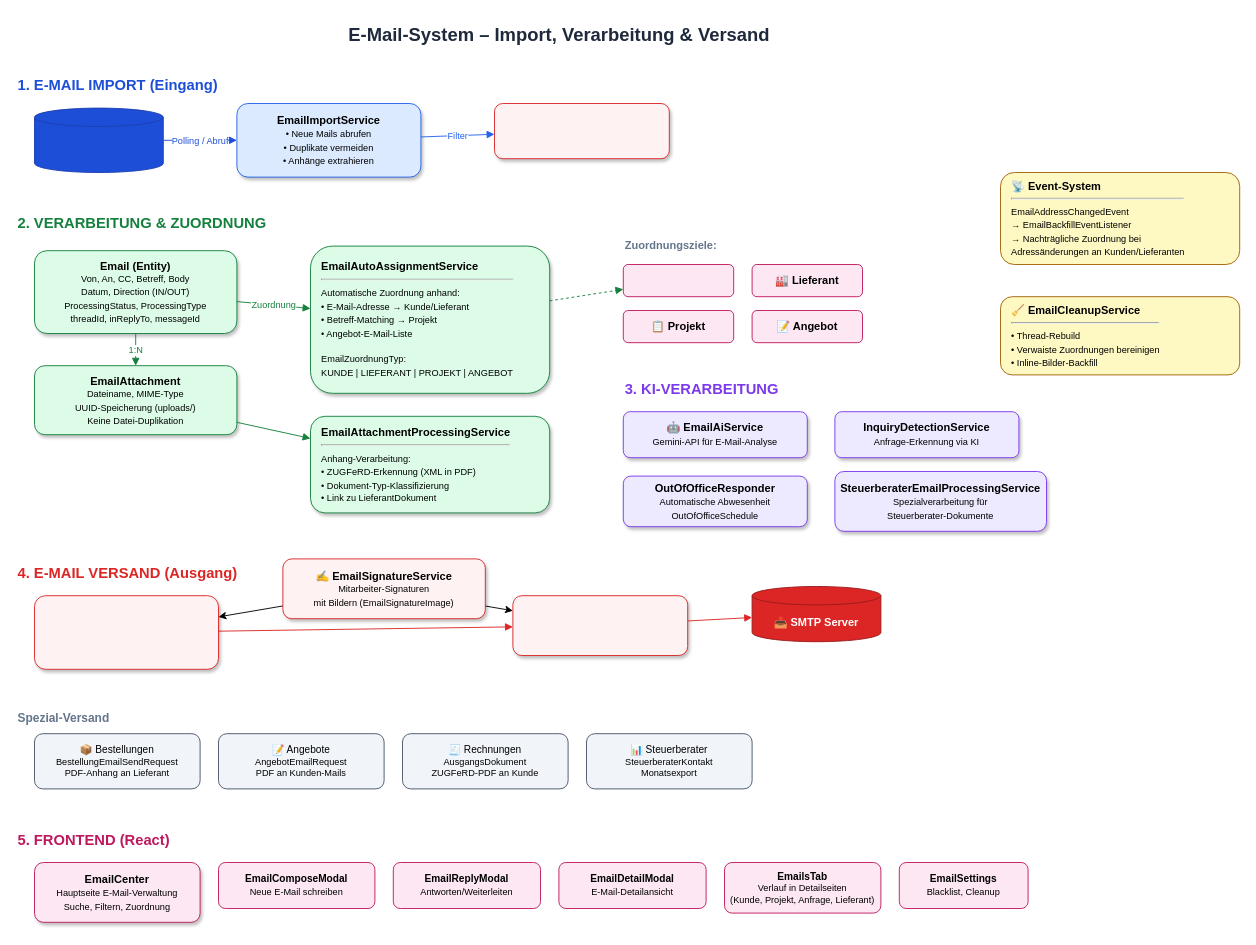
This 1256x945 diagram has some shape labels left out. Each missing label, with the centre of its shape:
SmtpHtmlMailSender HTML-E-Mails senden mit Anhängen & Signatur: the point at 600,626
SpamFilterService EmailBlacklistEntry Unerwünschte Mails filtern: the point at 582,132
👤 Kunde: the point at 678,280
📝 E-Mail-Compose EmailComposeForm (React) Rich-Text Editor Anhänge, CC/BCC: the point at 127,633
📧 IMAP Server Externe Mailbox: the point at 98,139
